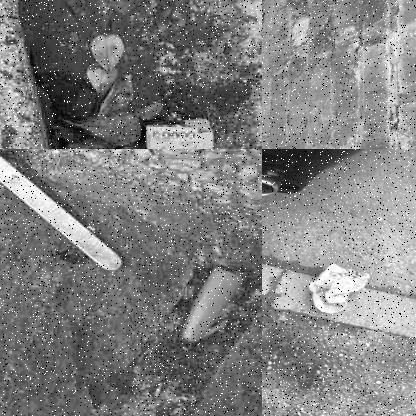plastic: (172, 260, 251, 344), (308, 264, 370, 313), (143, 123, 212, 148)
